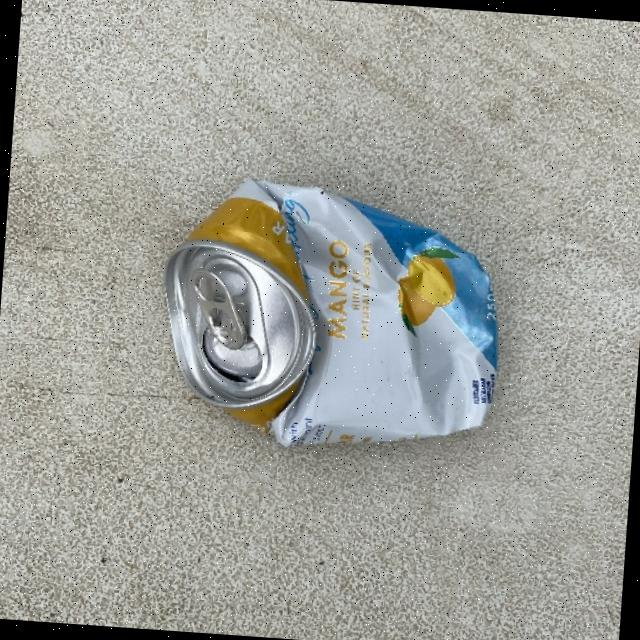metal: (150, 168, 526, 472)
